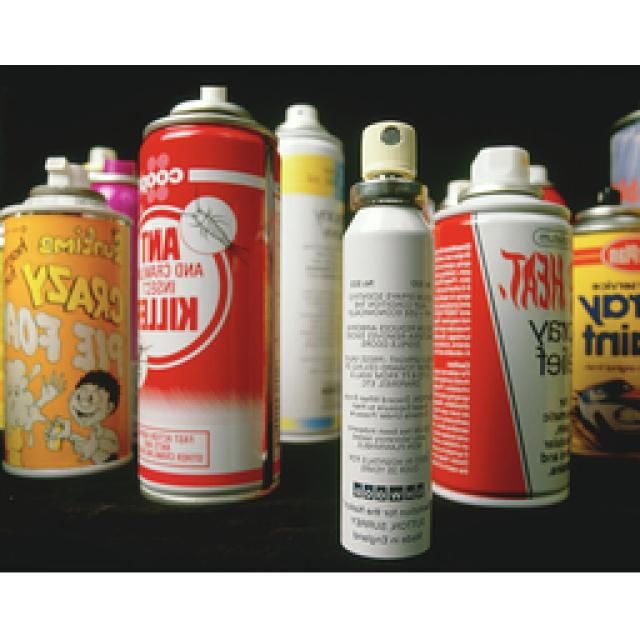B3: (131, 105, 263, 496), (428, 141, 574, 489), (335, 128, 427, 563)
